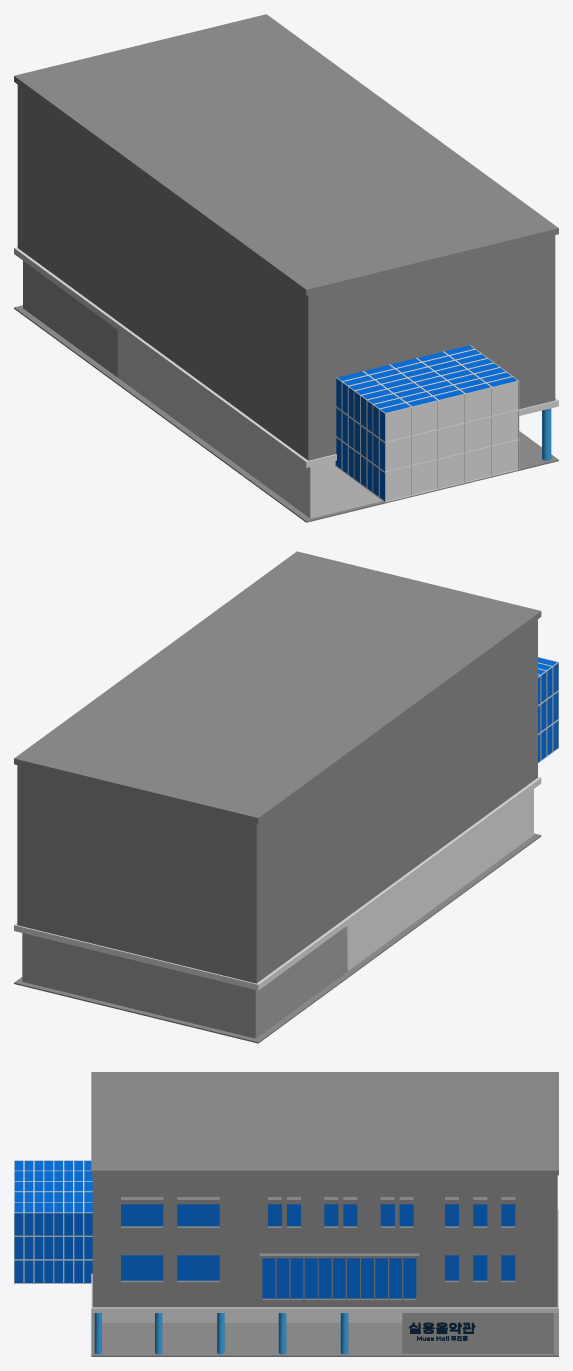
The model's file is 실용음악관.fbx.
3 views of the same model, one above another, from view 1: azimuth 30°, elevation 25°; view 2: azimuth 150°, elevation 25°; view 3: azimuth 270°, elevation 25° (orthographic). The views are drawn at different scales.
Visible parts, largest first — view 1: Cube, Cube_5, Cube_21, Cube_1, Cube_94, Cube_13, Cube_20, Cube_12; view 2: Cube, Cube_5, Cube_13, Cube_1, Cube_12, Cube_20, Cube_94, Cube_21; view 3: Cube, Cube_5, Cube_95, Cube_20, Cube_94, Cube_13, Cube_12, Cube_21, Cube_1, Extrude_1, Cylinder_2, Cylinder_4.
Part boxes in pixels (box(x1,y1,x2,y2)): Cube: box(17, 85, 555, 460); Cube_5: box(14, 14, 558, 295); Cube_21: box(335, 345, 519, 502); Cube_1: box(117, 330, 382, 518); Cube_94: box(336, 345, 517, 500); Cube_13: box(23, 261, 117, 377); Cube_20: box(14, 305, 558, 522); Cube_12: box(14, 247, 558, 467); Cube: box(17, 619, 537, 983); Cube_5: box(14, 551, 541, 823); Cube_13: box(22, 926, 347, 1038); Cube_1: box(346, 789, 533, 970); Cube_12: box(14, 777, 541, 990); Cube_20: box(14, 833, 541, 1043); Cube_94: box(538, 657, 558, 762); Cube_21: box(538, 657, 558, 763); Cube: box(92, 1175, 557, 1307); Cube_5: box(91, 1072, 558, 1175); Cube_95: box(121, 1204, 515, 1298); Cube_20: box(91, 1313, 558, 1356); Cube_94: box(14, 1161, 92, 1282); Cube_13: box(402, 1313, 553, 1353); Cube_12: box(91, 1209, 558, 1312); Cube_21: box(14, 1160, 92, 1283); Cube_1: box(94, 1313, 402, 1322); Extrude_1: box(409, 1322, 475, 1333); Cylinder_2: box(278, 1313, 286, 1354); Cylinder_4: box(340, 1313, 348, 1354).
Size of the model in its own units: 386 by 332 by 882.
